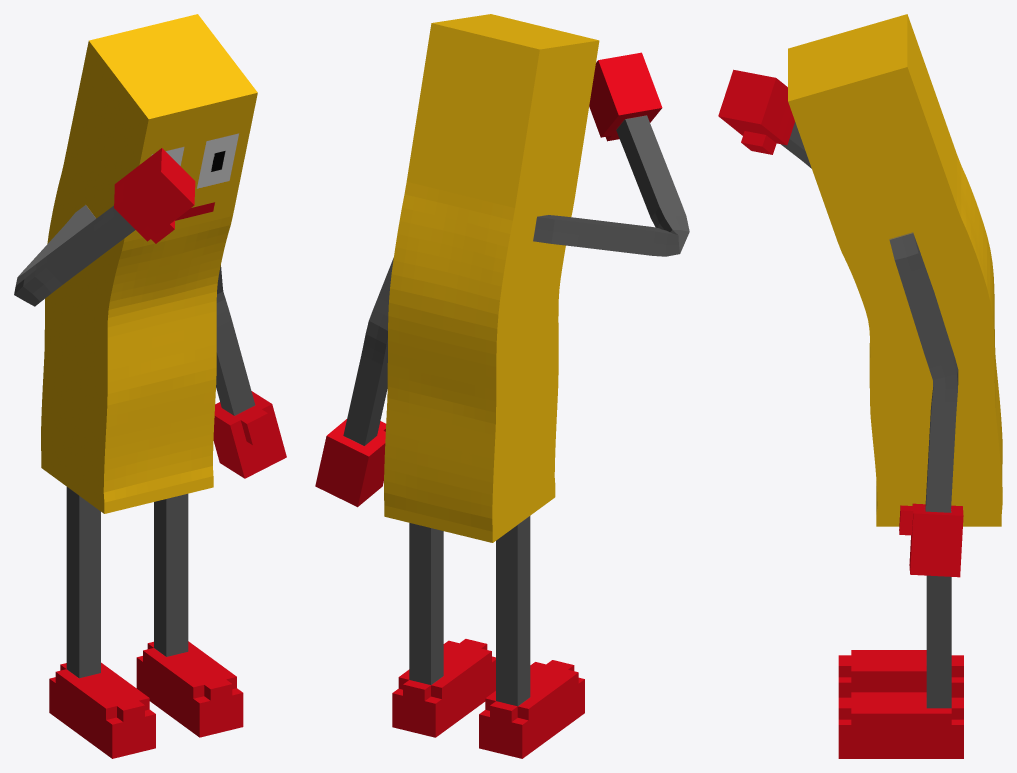
File: potatokun_thirsty.fbx
The picture shows the model from 3 angles, left to right: view 1: azimuth 30°, elevation 25°; view 2: azimuth 150°, elevation 25°; view 3: azimuth 270°, elevation 25°; orthographic projection.
Visible parts, largest first — view 1: PLY PK 60cm; view 2: PLY PK 60cm; view 3: PLY PK 60cm.
Boxes of the visible parts, x1=… form: PLY PK 60cm: x1=14, y1=14, x2=286, y2=758; PLY PK 60cm: x1=315, y1=14, x2=689, y2=758; PLY PK 60cm: x1=718, y1=14, x2=1002, y2=758.
Size of the model in its own units: 28.19 by 60.41 by 22.69.
1 material, 1 textured.
